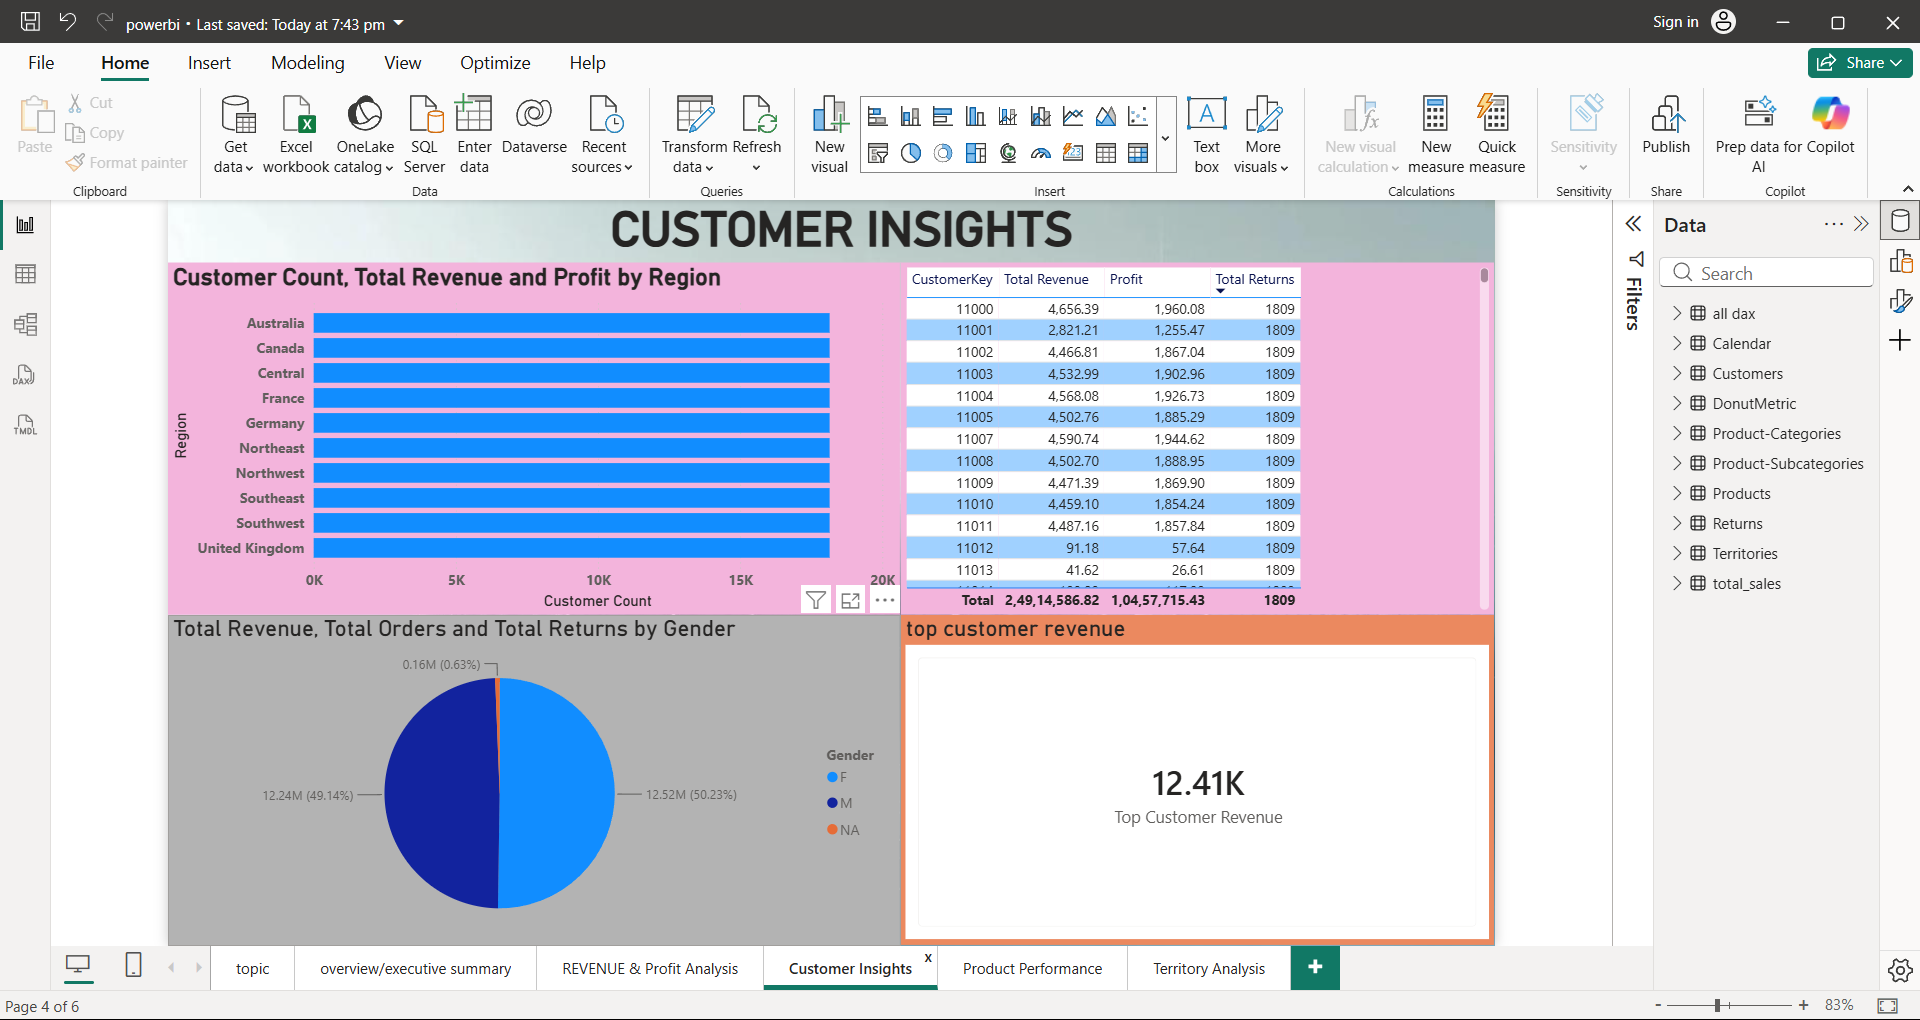

The page's visual inventory and layout, read from the dashboard file:
{"tool":"powerbi","page":{"name":"Customer Insights","canvas":[1280,720],"ordinal":3},"visuals":[{"type":"cardVisual","title":"top customer revenue","fields":{"Data":["Calendar.Top Customer Revenue"]},"box":[706.6,400.5,573.1,318.6],"z":0},{"type":"clusteredBarChart","fields":{"Category":["Territories.Region"],"Y":["Calendar.Customer Count"]},"box":[0,60.5,706.6,339.9],"z":1000},{"type":"tableEx","fields":{"Values":["Customers.CustomerKey","total_sales.Total Revenue","total_sales.Profit","total_sales.Total Returns"]},"box":[706.6,60.5,573.1,339.9],"z":2000},{"type":"pieChart","fields":{"Category":["Customers.Gender"],"Y":["total_sales.Total Revenue"]},"box":[0,400.5,706.6,320.4],"z":3000},{"type":"textbox","title":"CUSTOMER INSIGHTS","box":[422.4,0,489.2,61.2],"z":4000}]}

Visuals, with their boxes on the page's 1280x720 design canvas (x1, y1, x2, y2). These are canvas units, not pixel positions in the 1920x1020 screenshot, which may show the page scaled, cropped or inside an application window:
"top customer revenue" cardVisual: bbox(707, 400, 1280, 719)
clusteredBarChart - Territories.Region x Calendar.Customer Count: bbox(0, 60, 707, 400)
tableEx - Customers.CustomerKey x total_sales.Total Revenue: bbox(707, 60, 1280, 400)
pieChart - Customers.Gender x total_sales.Total Revenue: bbox(0, 400, 707, 721)
"CUSTOMER INSIGHTS" textbox: bbox(422, 0, 912, 61)
